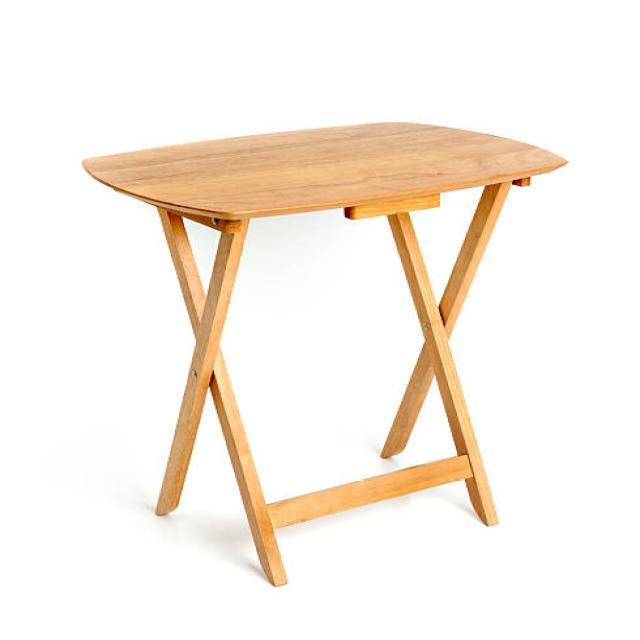table: (81, 120, 568, 586)
